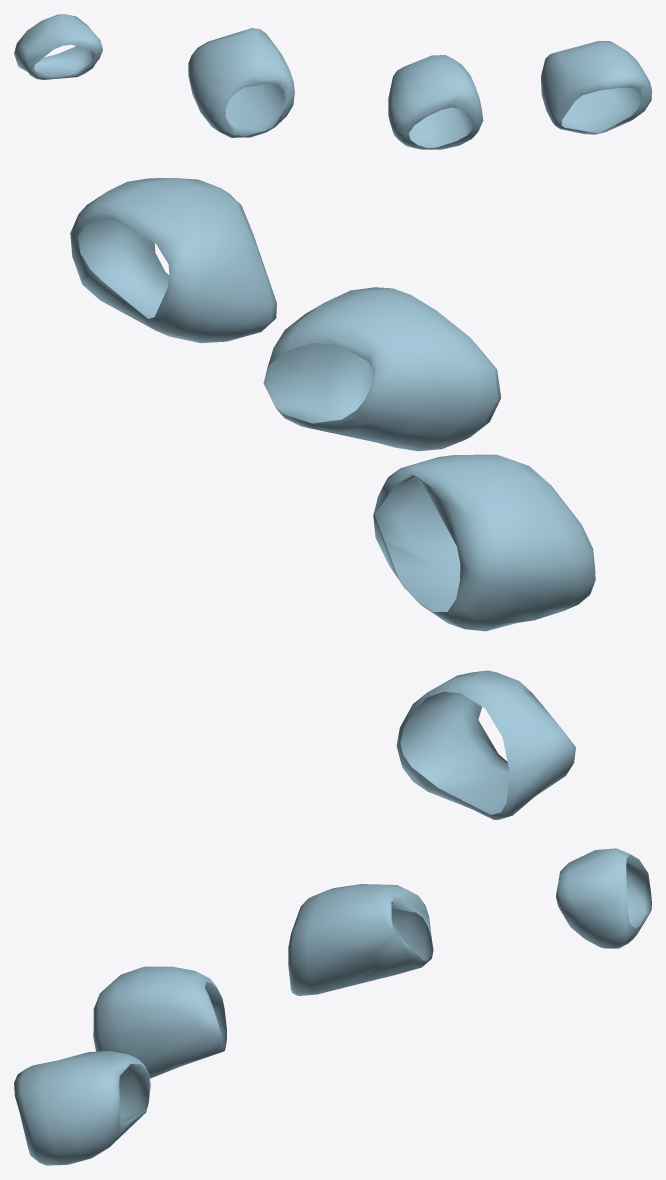
Rendered from articulacoes-articular-capsules-of-distal-interphalangeal-joints-of-foot-r.glb.
3 views of the same model, one above another, from view 1: azimuth 30°, elevation 25°; view 2: azimuth 150°, elevation 25°; view 3: azimuth 270°, elevation 25° (orthographic). The views are drawn at different scales.
Parts seen in each view (by area): view 1: Articular capsules of distal interphalangeal joints of foot.; view 2: Articular capsules of distal interphalangeal joints of foot.; view 3: Articular capsules of distal interphalangeal joints of foot..
Boxes of the visible parts, x1,y1,x2,y2 form: Articular capsules of distal interphalangeal joints of foot.: (14, 14, 651, 149); Articular capsules of distal interphalangeal joints of foot.: (70, 178, 595, 819); Articular capsules of distal interphalangeal joints of foot.: (14, 848, 651, 1165).
Size of the model in its own units: 0.0491 by 0.00866 by 0.0451.
